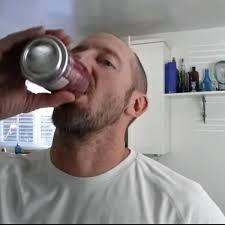Drinking: (12, 28, 148, 130)
